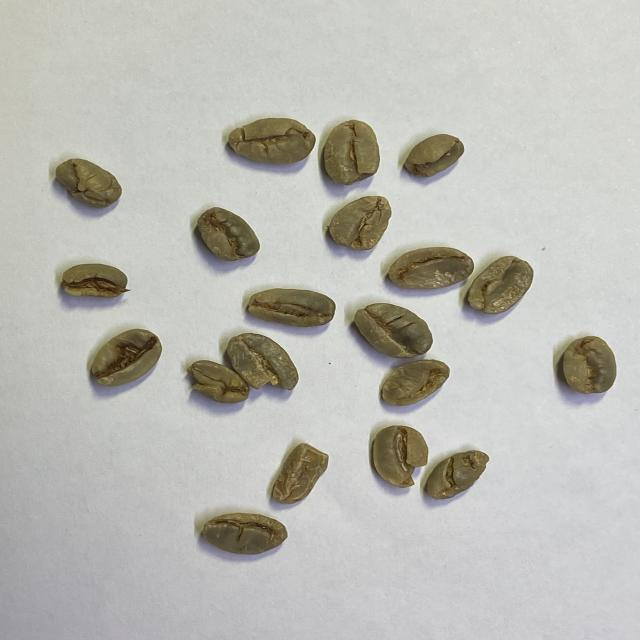bad: (352, 302, 434, 361), (89, 327, 164, 388), (226, 116, 317, 166), (226, 331, 300, 392), (465, 255, 535, 316), (322, 119, 381, 188), (387, 244, 475, 290), (200, 512, 289, 556), (270, 441, 330, 506), (246, 287, 336, 329), (196, 205, 261, 263), (326, 195, 393, 251), (373, 424, 429, 489), (55, 157, 123, 210), (378, 359, 451, 406), (561, 335, 618, 395), (426, 449, 490, 501), (185, 358, 251, 405), (403, 132, 465, 179), (60, 262, 132, 300)
